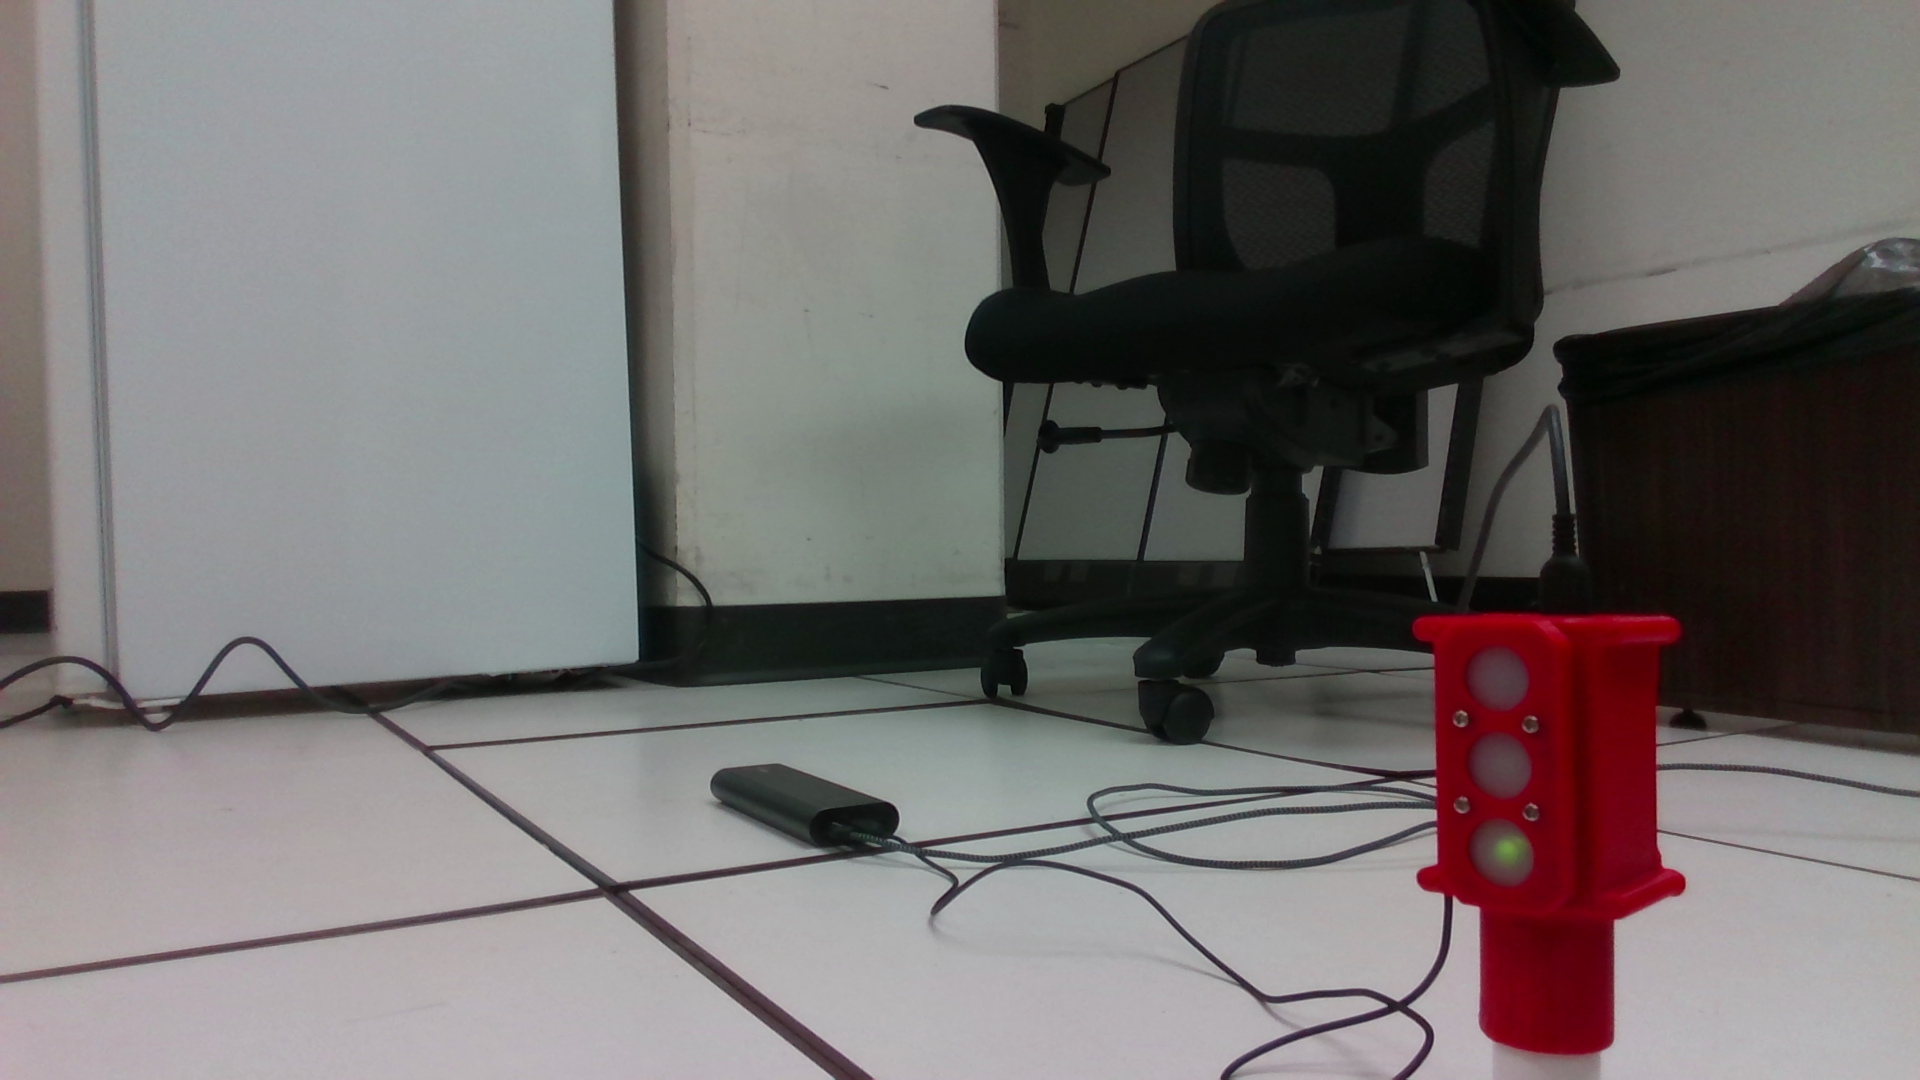stoplight: (1407, 608, 1695, 1059)
